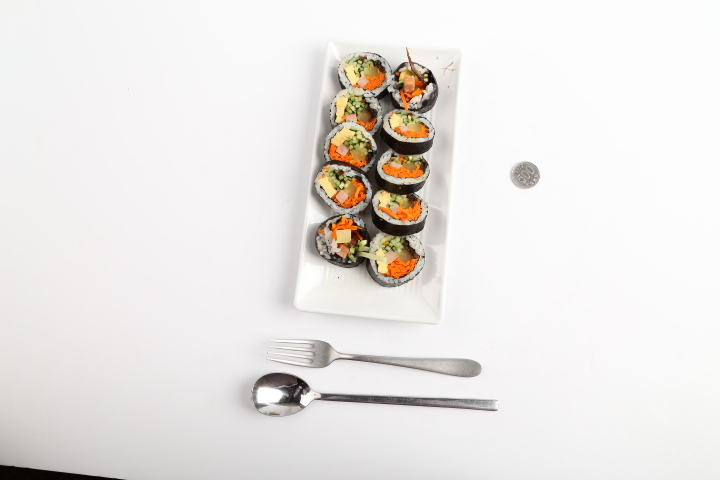dish: (293, 40, 462, 324)
ref_coin: (510, 161, 540, 188)
ref_fork: (266, 339, 339, 368)
ref_spoon: (252, 373, 321, 416)
김밥: (315, 50, 440, 287)
